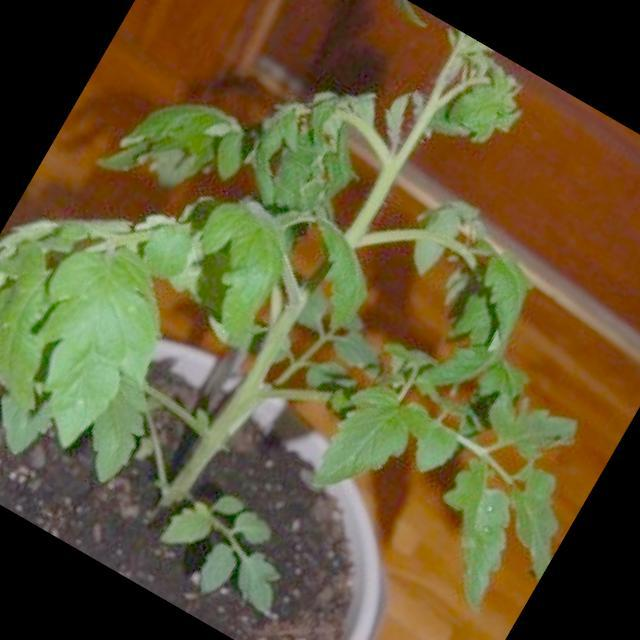Tomato healthy leaf: (0, 221, 197, 467), (303, 372, 429, 518)
